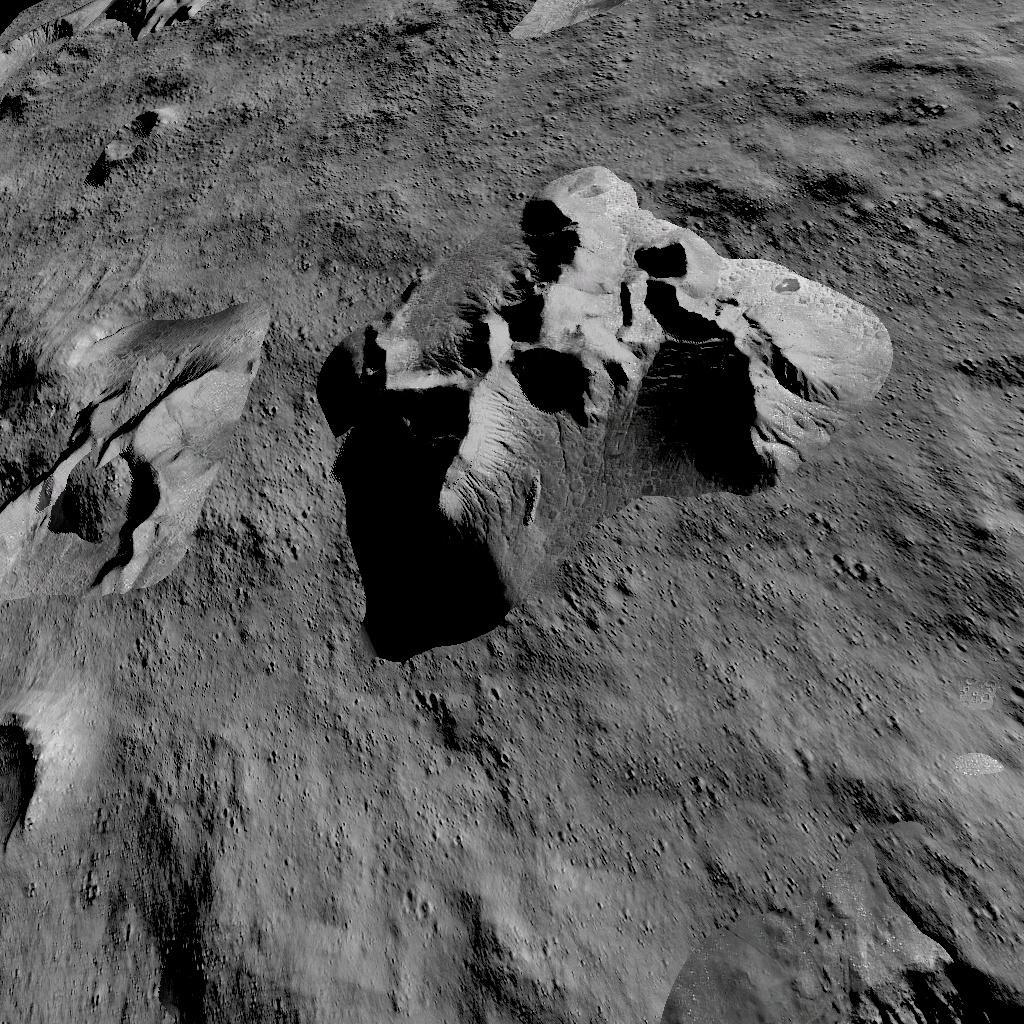Boulders: (293, 170, 881, 656), (420, 0, 698, 55), (103, 0, 238, 58)
Crater: (0, 353, 202, 597), (843, 963, 1024, 1024), (84, 110, 184, 190), (0, 22, 88, 104), (0, 712, 38, 850)
Plan surface: (68, 678, 796, 1014), (829, 674, 1024, 924), (719, 0, 1024, 148), (230, 64, 696, 149), (0, 214, 252, 322)
